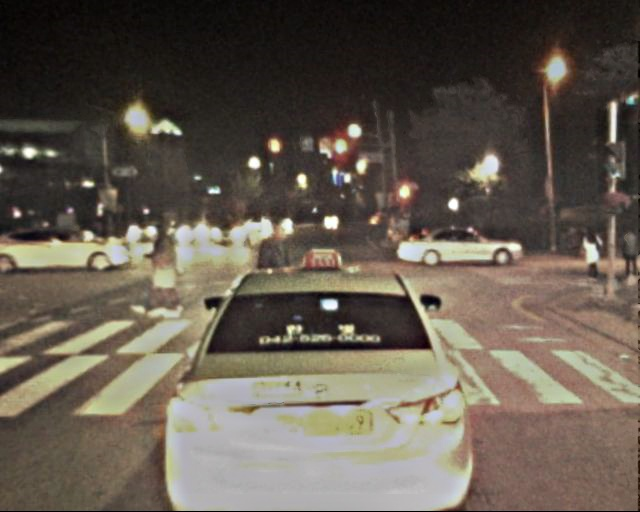person: (248, 219, 300, 347), (143, 221, 182, 315), (579, 226, 604, 286), (619, 228, 640, 282)
